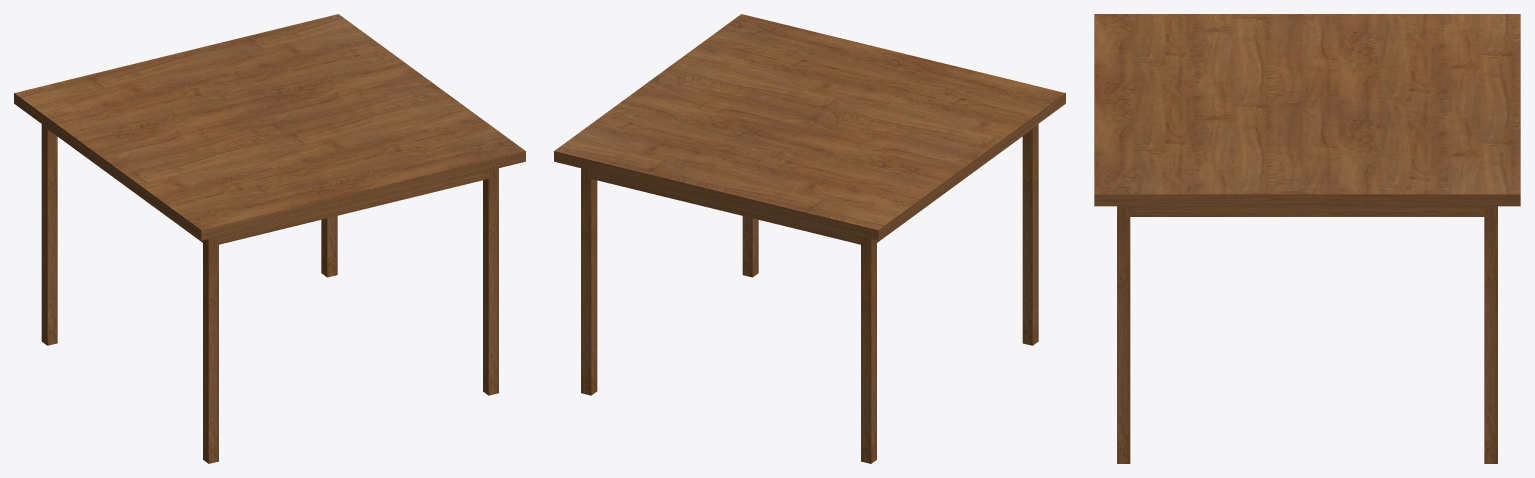
The model's file is squareTable.fbx.
The picture shows the model from 3 angles, left to right: view 1: azimuth 30°, elevation 25°; view 2: azimuth 150°, elevation 25°; view 3: azimuth 270°, elevation 25°; orthographic projection. The views are drawn at different scales.
Parts seen in each view (by area): view 1: Cube; view 2: Cube; view 3: Cube.
Boxes of the visible parts, x1,y1,x2,y2 form: Cube: (14,14,525,463); Cube: (554,14,1065,463); Cube: (1094,14,1520,463).
Size of the model in its own units: 321 by 232 by 321.
1 material, 1 textured.
